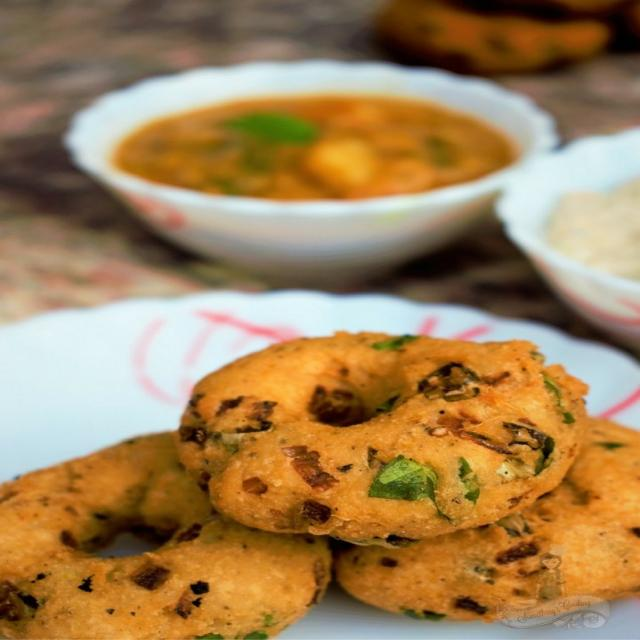MEDU VADA: (190, 321, 594, 538), (325, 405, 639, 623), (1, 433, 322, 639)
